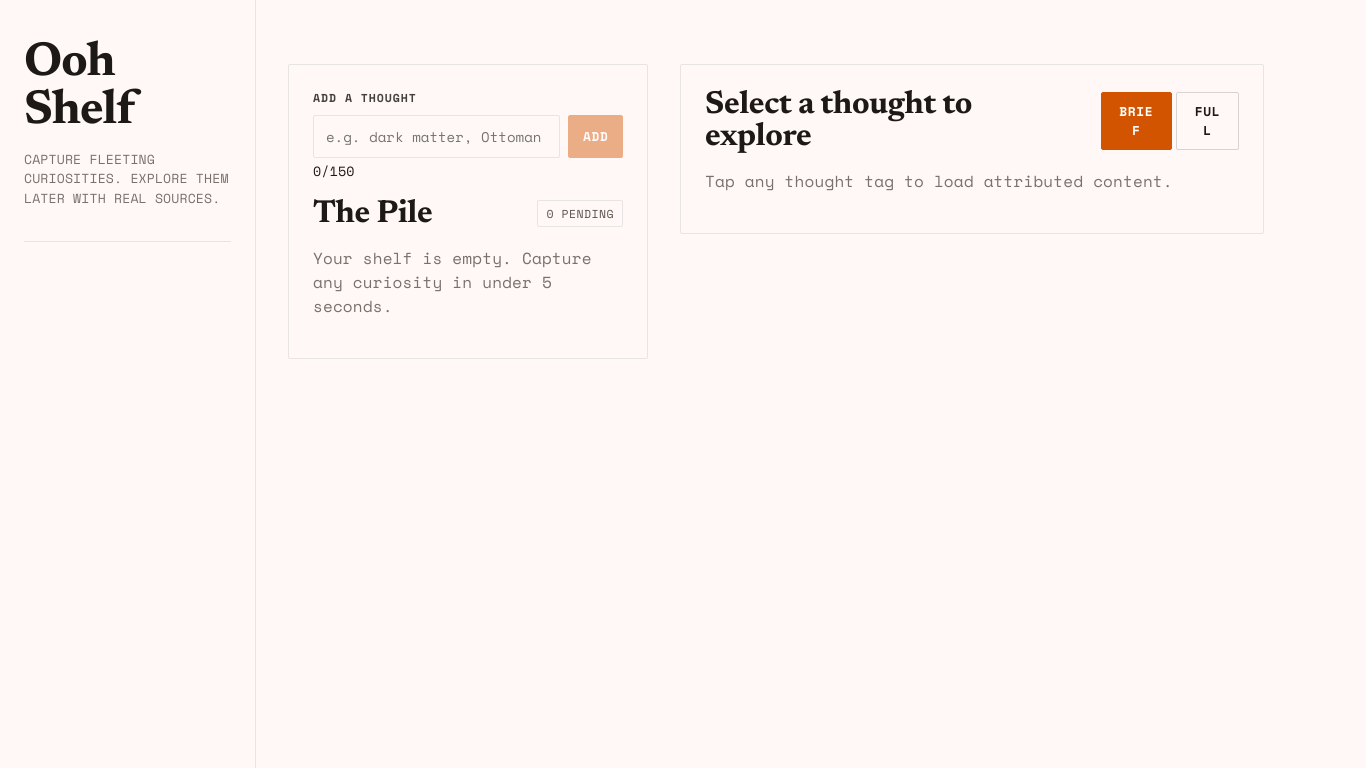
Test: App integration › adds a thought, opens it, and renders sourced content
This screenshot has width=1366, height=768.
In the field labelled "Add a thought": (437, 136) [313,115,560,158], type "Dark matter"
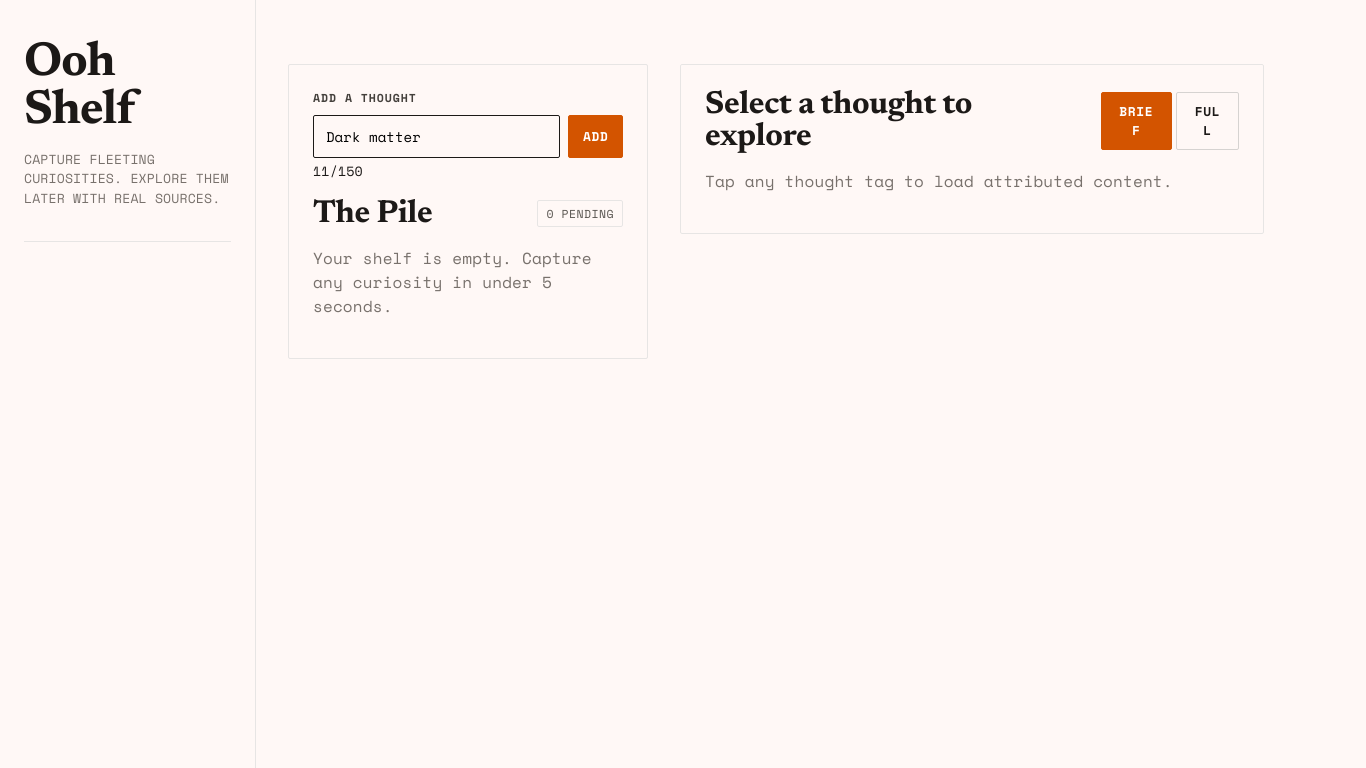
Click the button "Add": (596, 136) [568,115,623,158]
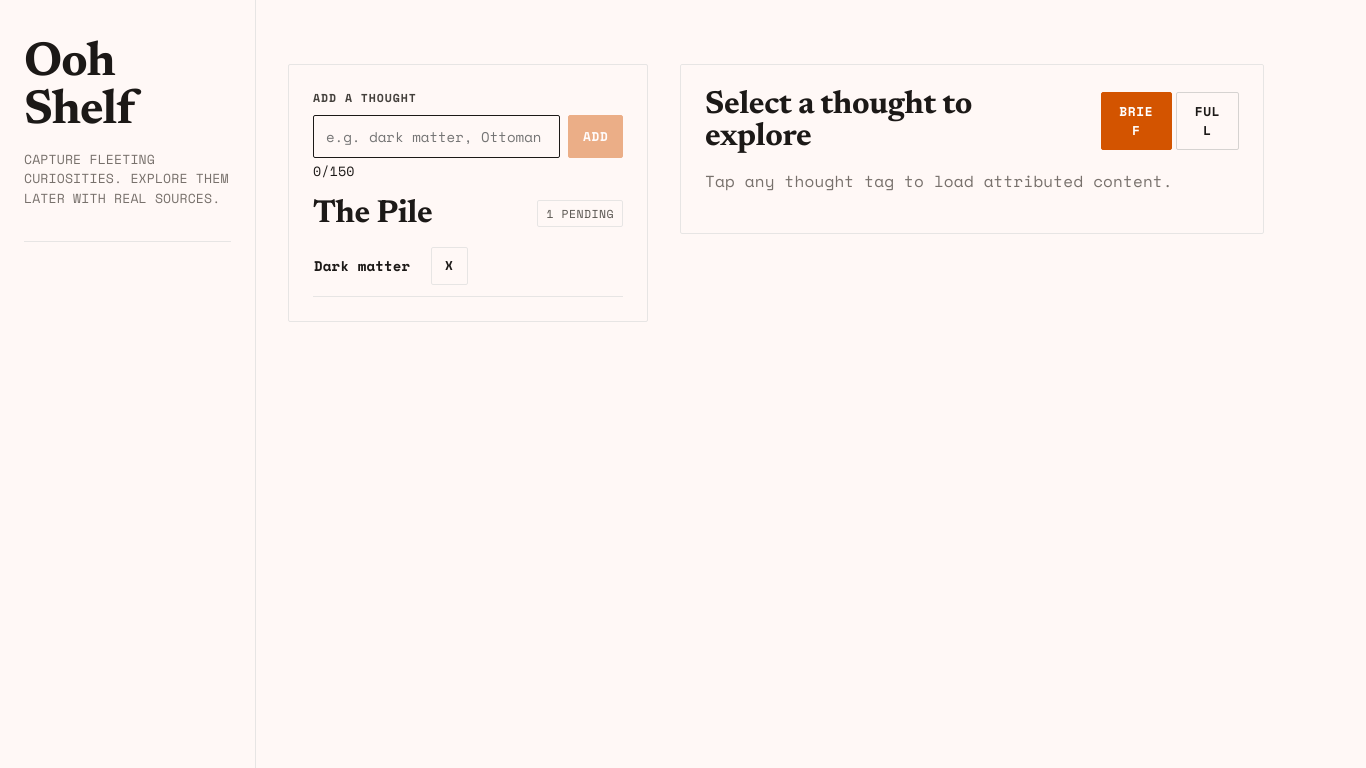
Check: the button "Dark matter" is shown
Click the button "Dark matter": (369, 266) [313,246,425,286]
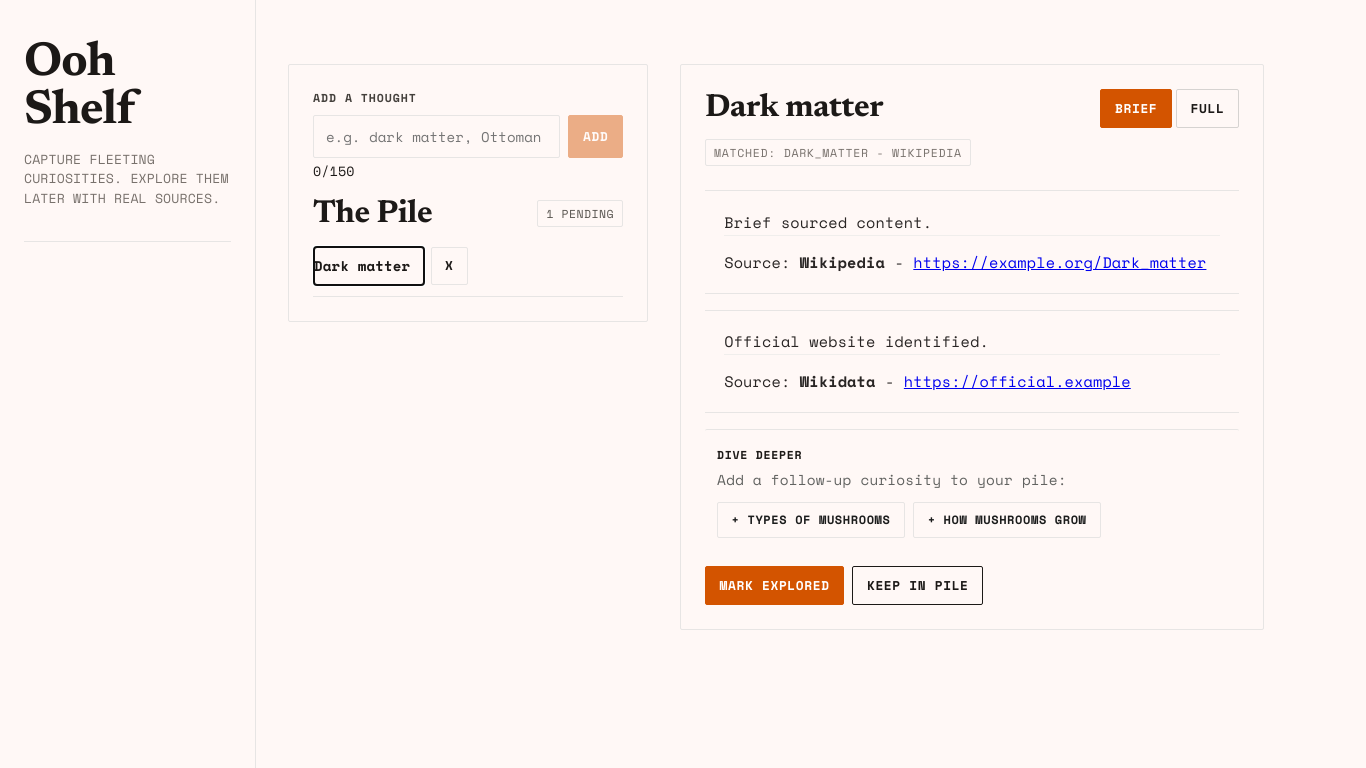
Check: the text "Brief sourced content." is shown, box [724,211,932,233]
Check: the text "Source: Wikipedia - https://example.org/Dark_matter" is shown, box [724,235,1220,275]
Check: the heading "Dive deeper" is shown, box [717,446,802,463]
